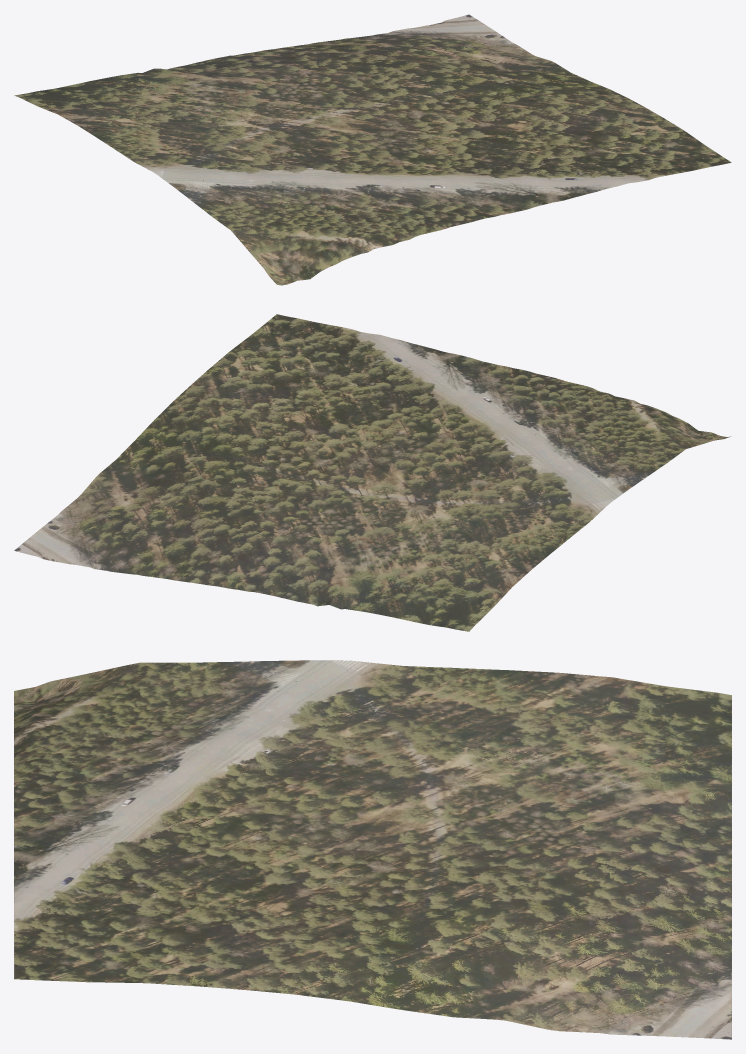
File: CM_Terrain_24489844_6820204.fbx
The picture shows the model from 3 angles, top to bottom: view 1: azimuth 30°, elevation 25°; view 2: azimuth 150°, elevation 25°; view 3: azimuth 270°, elevation 25°; orthographic projection. The views are drawn at different scales.
Visible parts, largest first — view 1: CM_Terrain_24489844_6820204_LOD0; view 2: CM_Terrain_24489844_6820204_LOD0; view 3: CM_Terrain_24489844_6820204_LOD0.
Part boxes in pixels (x1,y1,x2,y2): CM_Terrain_24489844_6820204_LOD0: (14, 14, 731, 285); CM_Terrain_24489844_6820204_LOD0: (14, 314, 731, 631); CM_Terrain_24489844_6820204_LOD0: (14, 660, 731, 1039).
Size of what is drawn, in the model's own units: 205 by 24.43 by 205.
